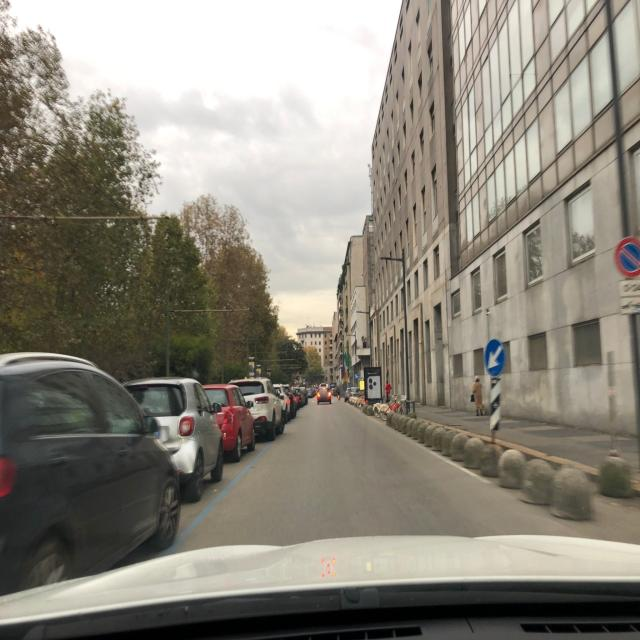forb_stopping: (613, 235, 640, 278), (614, 236, 640, 279)
